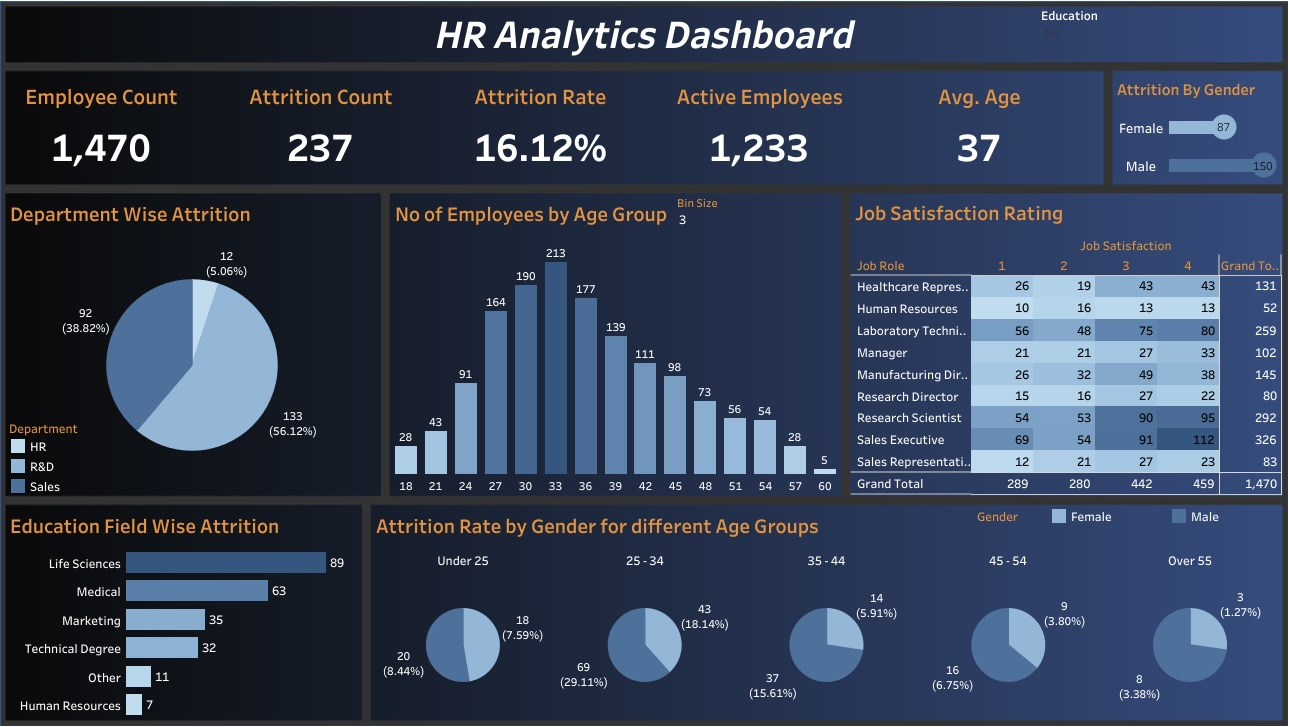

The page's visual inventory and layout, read from the dashboard file:
{"tool":"tableau","page":{"name":"HR Analytics","canvas":[1580,900],"ordinal":0},"visuals":[{"type":"image","param":"/Users/anirudhnuti/Documents/HR Analytics/HR background.png","box":[174,65,1335,725]},{"type":"text","box":[581,69,526,55]},{"type":"filter","title":"Department Wise Attrition","param":"[federated.1gl0o2o0yywfx41fm9dda1452183].[none:Education:nk]","box":[1238,69,240,58]},{"type":"worksheet","title":"KPI","mark":"Automatic","box":[189,134,1097,112]},{"type":"worksheet","title":"Attrition By Gender","mark":"Automatic","rows":["Gender"],"cols":["Calculation_3866551453897035776","Calculation_3866551453897035776"],"box":[1310,136,169,112]},{"type":"worksheet","title":"Job Satisfaction Rating","mark":"Square","rows":["Job Role"],"cols":["Job Satisfaction"],"box":[1048,257,431,302]},{"type":"worksheet","title":"Department Wise Attrition","mark":"Pie","box":[203,258,372,300]},{"type":"worksheet","title":"No of Employees by Age Group","mark":"Automatic","rows":["Employee Count"],"cols":["Age (bin)"],"box":[588,258,449,300]},{"type":"parameter","param":"[Parameters].[Parameter 1]","box":[874,258,162,70]},{"type":"legend","title":"Department Wise Attrition","param":"[federated.1gl0o2o0yywfx41fm9dda1452183].[none:Department:nk]","box":[205,481,119,78]},{"type":"worksheet","title":"Education Field Wise Attrition","mark":"Automatic","rows":["Education Field"],"cols":["Calculation_3866551453897035776"],"box":[203,570,354,213]},{"type":"worksheet","title":"Attrition Rate by Gender for different Age Groups","mark":"Pie","cols":["CF_age band"],"box":[569,570,909,213]},{"type":"legend","title":"Attrition Rate by Gender for different Age Groups","param":"[federated.1gl0o2o0yywfx41fm9dda1452183].[none:Gender:nk]","box":[1174,570,306,26]}]}

Visuals, with their boxes in screenshot pixels (x1, y1, x2, y2), scaled from the page's 1580x900 canvas onto the 1290x727 screenshot:
image: rect(142, 53, 1232, 638)
text: rect(474, 56, 904, 100)
"Department Wise Attrition" filter: rect(1011, 56, 1207, 103)
"KPI" worksheet: rect(154, 108, 1050, 199)
"Attrition By Gender" worksheet: rect(1070, 110, 1208, 200)
"Job Satisfaction Rating" worksheet (Square marks): rect(856, 208, 1208, 452)
"Department Wise Attrition" worksheet (Pie marks): rect(166, 208, 469, 451)
"No of Employees by Age Group" worksheet: rect(480, 208, 847, 451)
parameter: rect(714, 208, 846, 265)
"Department Wise Attrition" legend: rect(167, 389, 265, 452)
"Education Field Wise Attrition" worksheet: rect(166, 460, 455, 632)
"Attrition Rate by Gender for different Age Groups" worksheet (Pie marks): rect(465, 460, 1207, 632)
"Attrition Rate by Gender for different Age Groups" legend: rect(959, 460, 1208, 481)
